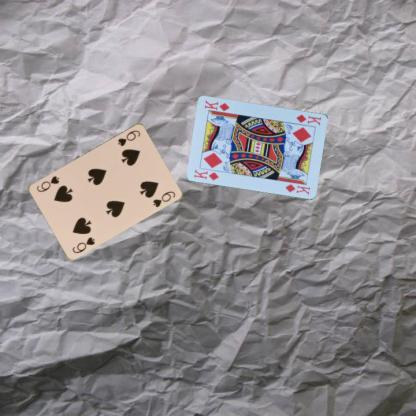6s: (115, 127, 142, 147), (70, 234, 96, 254)
Kd: (191, 166, 220, 182), (294, 112, 322, 126)
